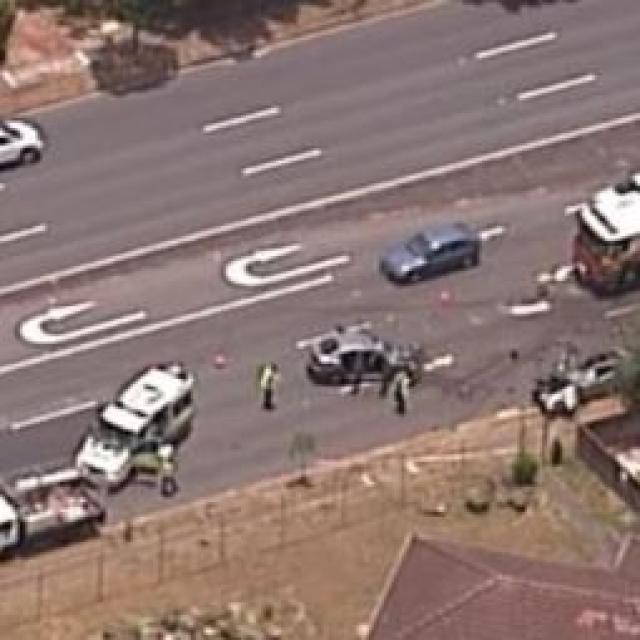traffic_incident: (296, 324, 434, 386)
